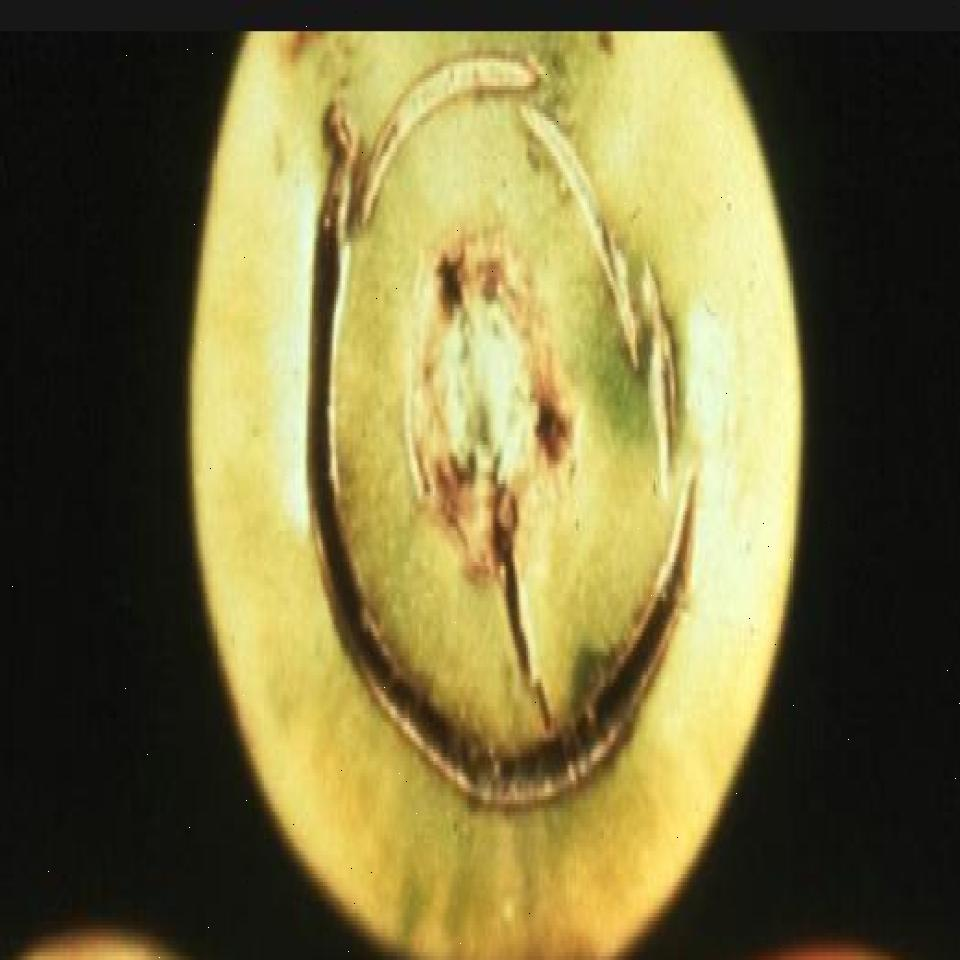Cracking: (276, 89, 710, 843), (496, 82, 644, 418), (330, 44, 555, 220), (473, 496, 569, 736), (626, 228, 698, 488)
